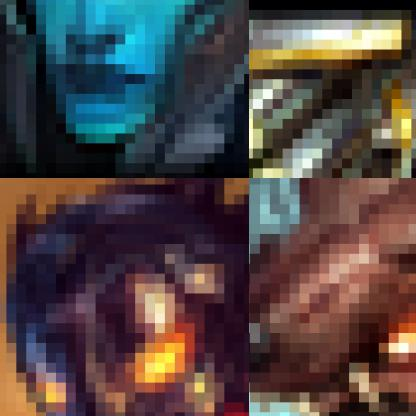Kalista: (0, 0, 248, 177)
Master Yi: (249, 0, 415, 177)
Udyr: (249, 178, 415, 415)
Viktor: (0, 178, 248, 415)
